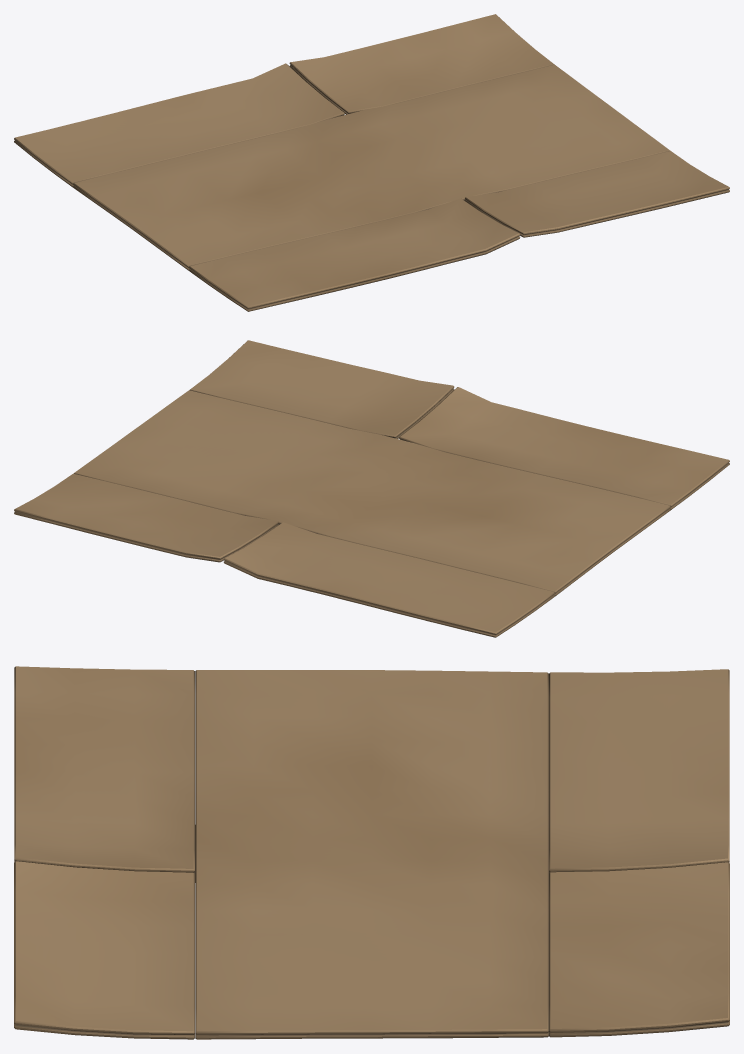
File: box_flat.glb
3 views of the same model, one above another, from view 1: azimuth 30°, elevation 25°; view 2: azimuth 150°, elevation 25°; view 3: azimuth 270°, elevation 25° (orthographic). The views are drawn at different scales.
Visible parts, largest first — view 1: box_flat; view 2: box_flat; view 3: box_flat.
Part boxes in pixels (x1,y1,x2,y2): box_flat: (14,14,729,311); box_flat: (14,340,729,637); box_flat: (14,666,729,1039).
Bounding box in the file's own units: 0.8799 × 0.0293 × 0.7407.
